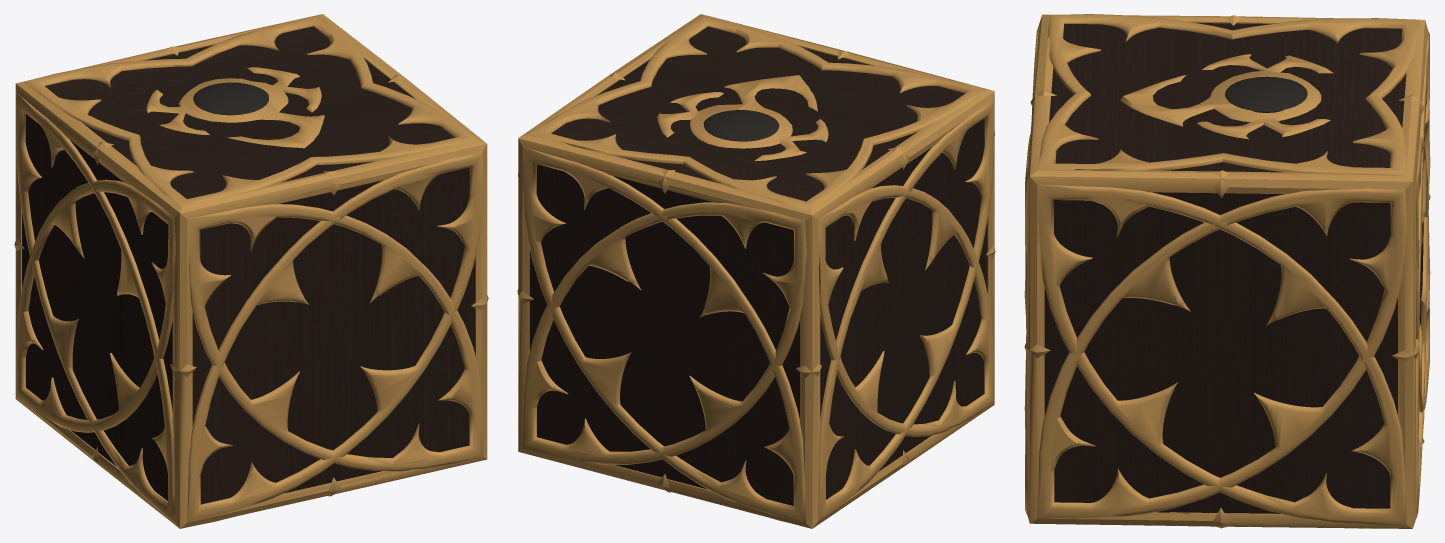
The model's file is cube_demo.glb.
The picture shows the model from 3 angles, left to right: view 1: azimuth 30°, elevation 25°; view 2: azimuth 150°, elevation 25°; view 3: azimuth 270°, elevation 25°; orthographic projection. The views are drawn at different scales.
Parts seen in each view (by area): view 1: Object_5, Object_3, Object_4, Object_2; view 2: Object_5, Object_3, Object_4, Object_2; view 3: Object_5, Object_3, Object_4, Object_2.
Boxes of the visible parts, x1,y1,x2,y2 form: Object_5: (22,26,475,504); Object_3: (14,14,488,528); Object_4: (193,82,268,115); Object_2: (20,34,428,476); Object_5: (529,26,987,505); Object_3: (517,14,995,528); Object_4: (703,110,779,141); Object_2: (531,29,871,473); Object_5: (1044,23,1424,513); Object_3: (1024,14,1430,528); Object_4: (1225,76,1307,112); Object_2: (1050,122,1421,471).
Size of the model in its own units: 1.91 by 1.87 by 1.91.
3 materials, 1 textured.
